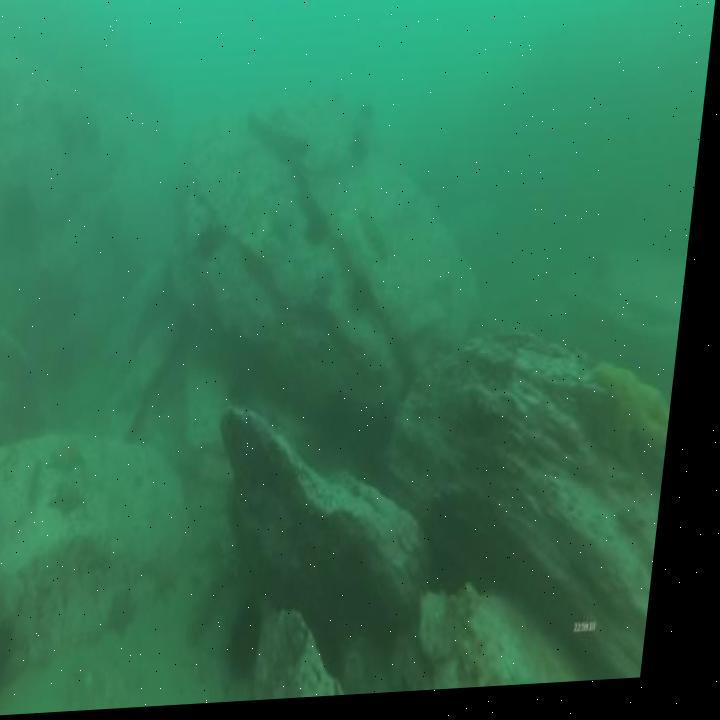echinus: (241, 605, 279, 683), (357, 278, 382, 321), (309, 209, 335, 250), (202, 223, 229, 262)
holothurian: (362, 206, 399, 266)
starfish: (163, 557, 194, 601), (120, 592, 150, 634), (61, 440, 92, 475), (59, 490, 93, 516)
